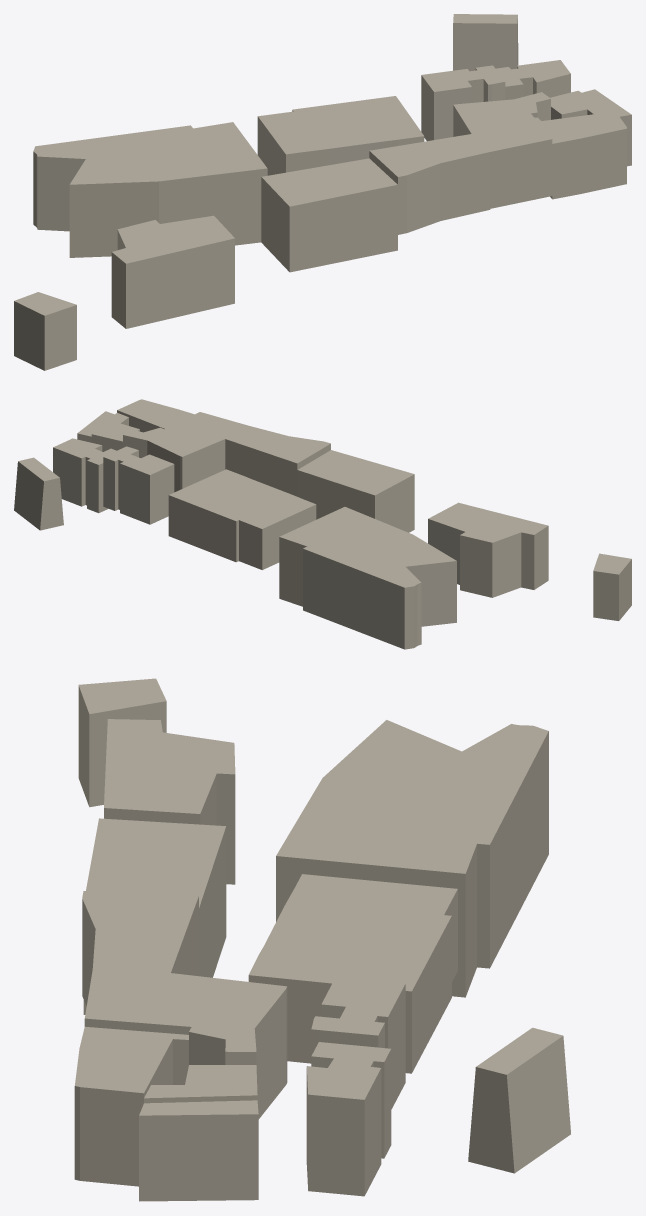
The model's file is bormla_61_25_mid.glb.
The picture shows the model from 3 angles, top to bottom: view 1: azimuth 30°, elevation 25°; view 2: azimuth 150°, elevation 25°; view 3: azimuth 270°, elevation 25°; orthographic projection. The views are drawn at different scales.
Parts seen in each view (by area): view 1: geometry_0; view 2: geometry_0; view 3: geometry_0.
Boxes of the visible parts, x1=… form: geometry_0: x1=14, y1=14, x2=631, y2=370; geometry_0: x1=14, y1=399, x2=631, y2=649; geometry_0: x1=74, y1=678, x2=570, y2=1201.
Bounding box in the file's own units: 132 × 24.08 × 54.76.
